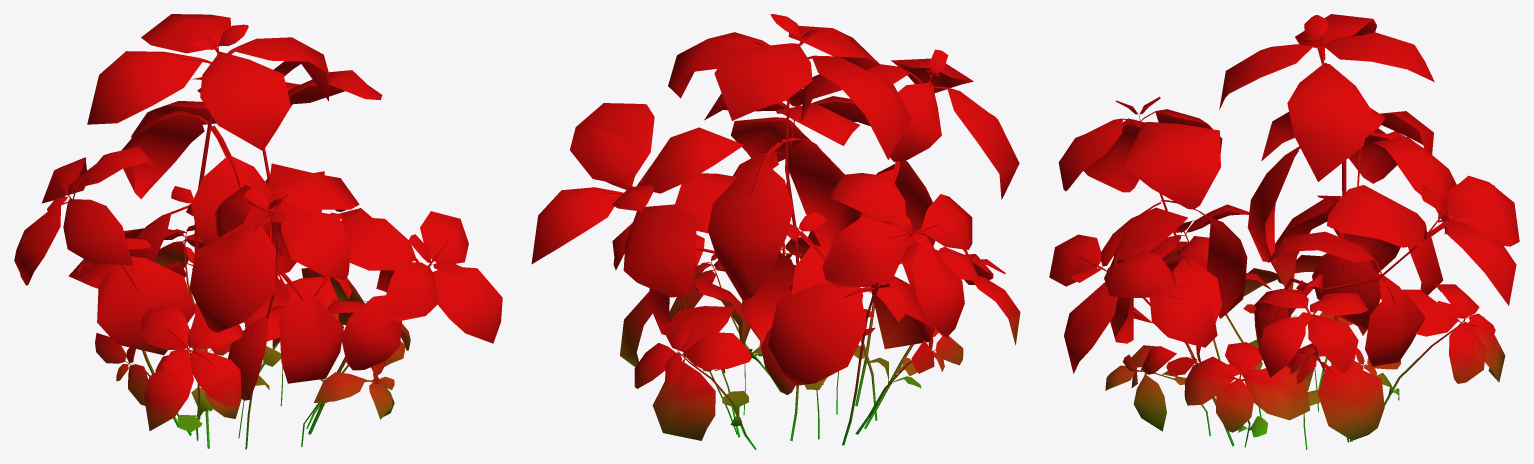
File: Basil_LOD3_Var4_vgpochzia.fbx
3 views of the same model, side by side, from view 1: azimuth 30°, elevation 25°; view 2: azimuth 150°, elevation 25°; view 3: azimuth 270°, elevation 25° (orthographic). The views are drawn at different scales.
Parts seen in each view (by area): view 1: _8uax_Var4_LOD3; view 2: _8uax_Var4_LOD3; view 3: _8uax_Var4_LOD3.
Part boxes in pixels (x1,y1,x2,y2): _8uax_Var4_LOD3: (14, 14, 502, 449); _8uax_Var4_LOD3: (531, 14, 1020, 449); _8uax_Var4_LOD3: (1049, 14, 1519, 449).
Size of the model in its own units: 35.04 by 36.39 by 39.21.
